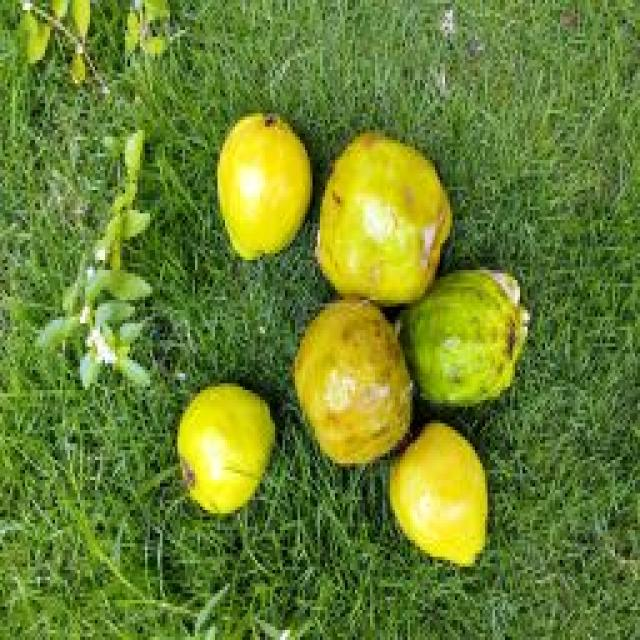Organik: (314, 124, 444, 314), (160, 352, 284, 524), (290, 294, 409, 472), (192, 91, 313, 263), (409, 255, 537, 414), (376, 422, 502, 581)
